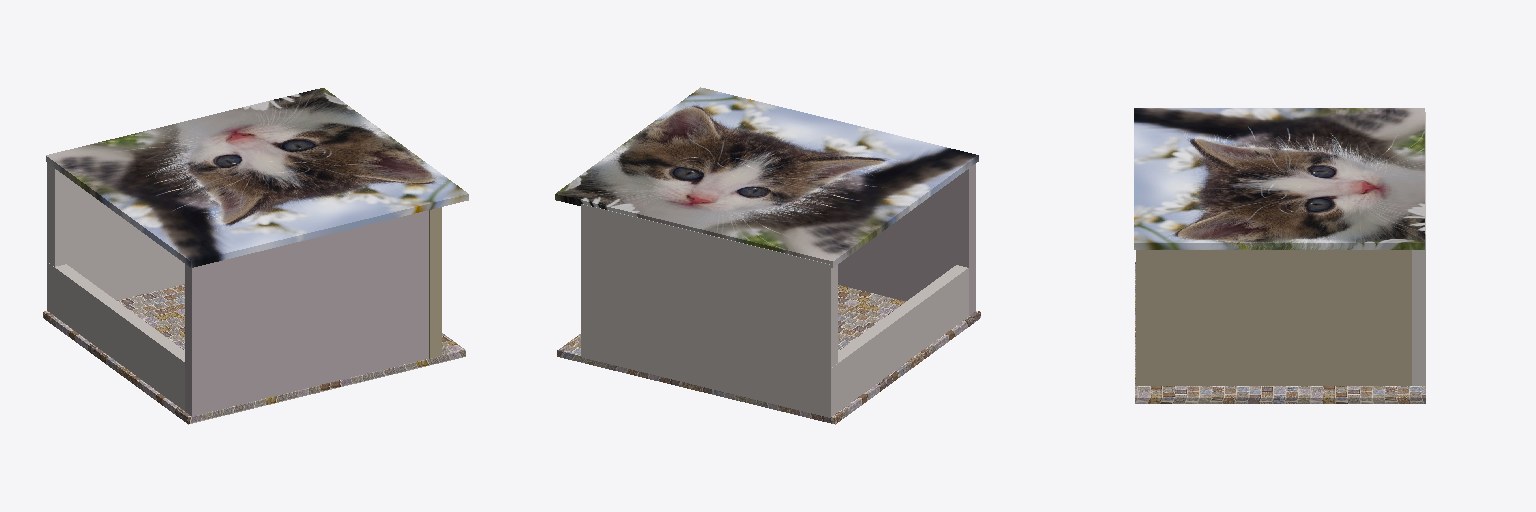
3 views of the same model, side by side, from view 1: azimuth 30°, elevation 25°; view 2: azimuth 150°, elevation 25°; view 3: azimuth 270°, elevation 25° (orthographic).
Visible parts, largest first — view 1: Cube.005, Cube.002, Cube.003, Cube, Cube.004, Cube.001; view 2: Cube.005, Cube.003, Cube.002, Cube, Cube.004; view 3: Cube.005, Cube.001, Cube.004, Cube.003.
Part boxes in pixels (x1,y1,x2,y2): Cube.005: (46,88,468,267); Cube.002: (185,210,428,415); Cube.003: (47,163,184,300); Cube: (47,262,184,410); Cube.004: (43,284,465,424); Cube.001: (429,207,441,358); Cube.005: (555,87,978,267); Cube.003: (581,204,837,417); Cube.002: (838,164,975,315); Cube: (831,265,968,416); Cube.004: (557,285,980,424); Cube.005: (1134,108,1424,249); Cube.001: (1136,250,1411,385); Cube.004: (1135,262,1425,403); Cube.003: (1412,112,1425,385).
Size of the model in its own units: 17.97 by 9.94 by 16.18.
5 materials, 5 textured.